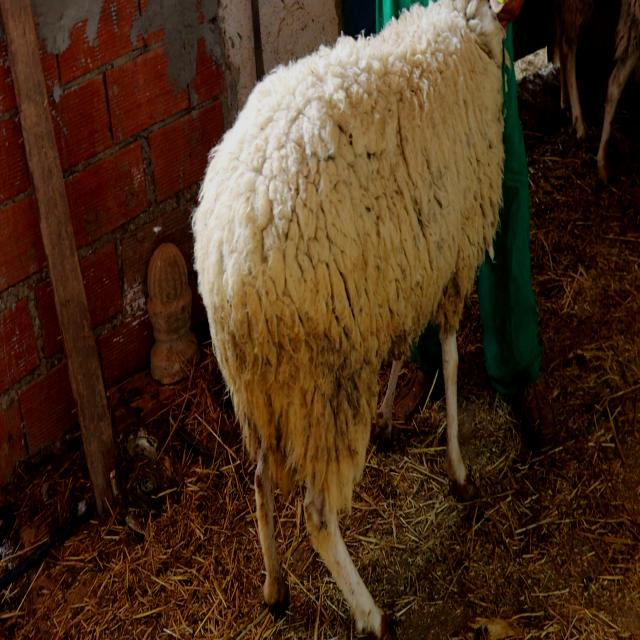Score_4: (192, 0, 505, 637)
